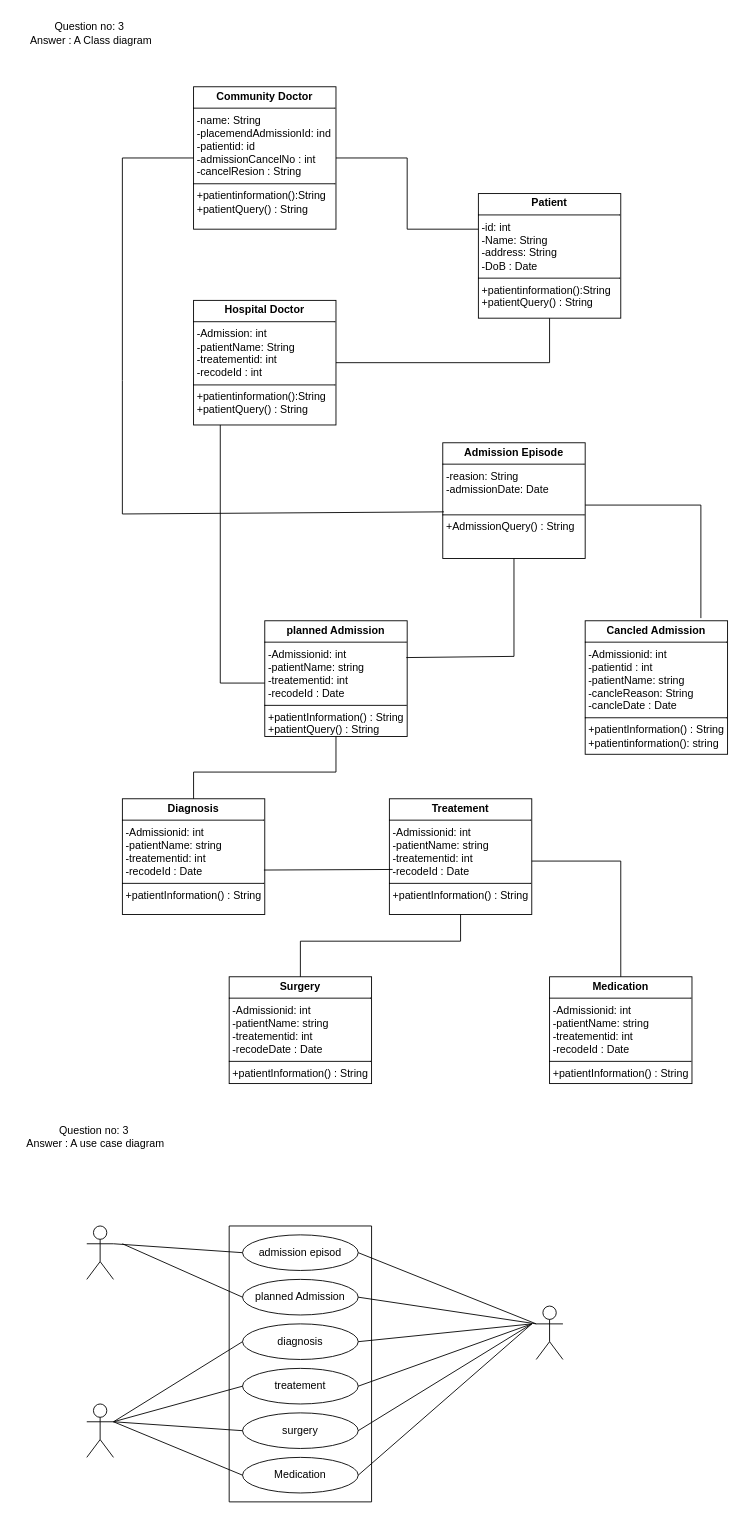
Some shapes in this 743 by 1517 pixel diagram are drawn without their labels. Here are the shapes that lost their labels. From the top down, the box of each, then its label:
(86, 1225, 113, 1279): Community Doctor
(535, 1305, 563, 1359): patient
(86, 1403, 113, 1457): Hospital Doctor
